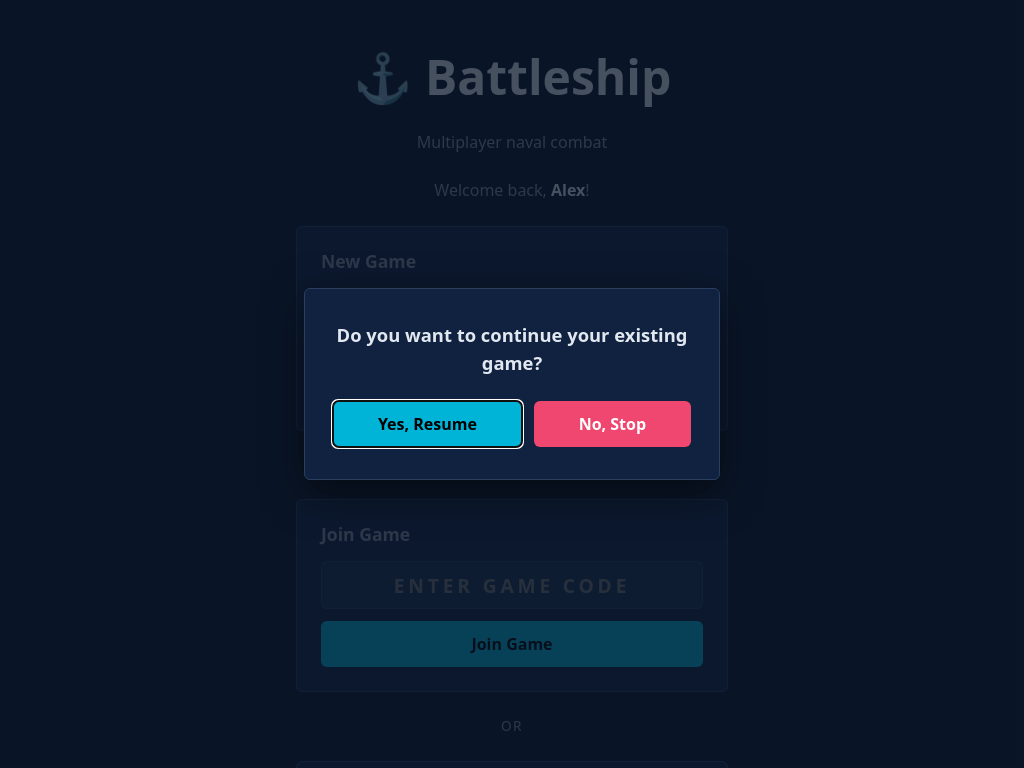
Test: Home resume seam (AC-5/6/7/14) › Yes/Resume → null (stale 404 / FINISHED) stays on clean Home, modal gone (AC-13/14)
Click the button "Yes, Resume".
click(427, 424)  # box x1=333 y1=401 x2=522 y2=447
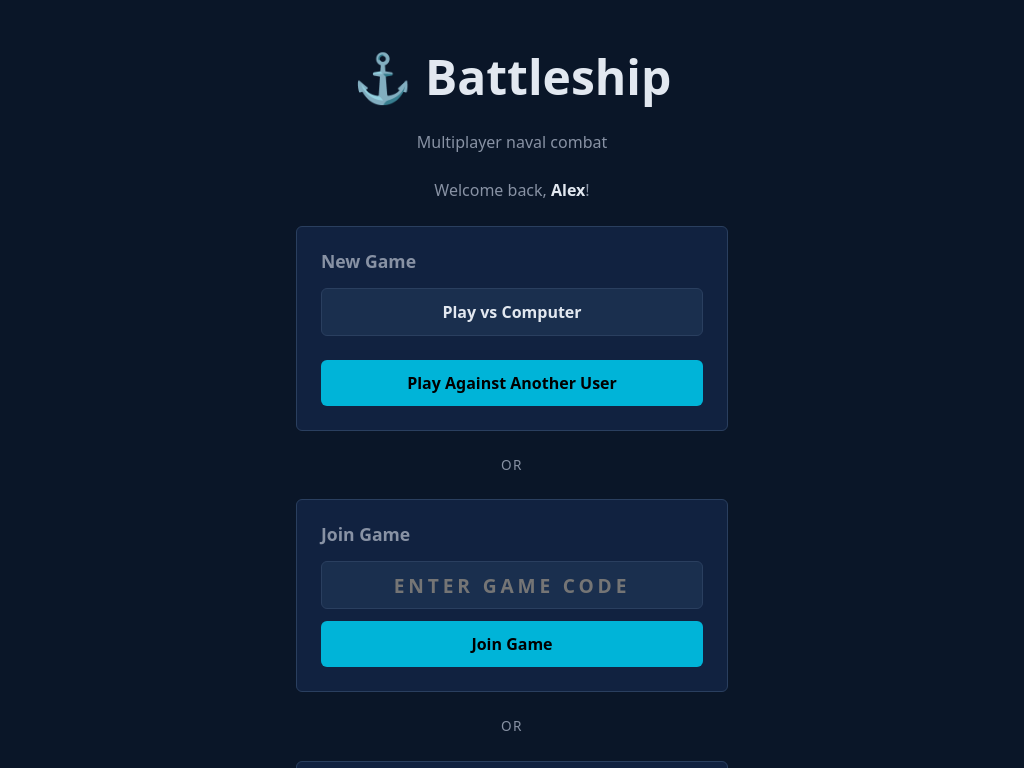
expect the dialog is gone: met
